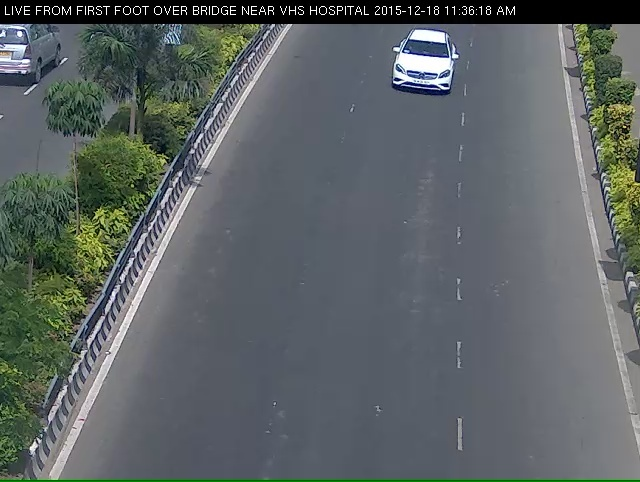Car: (380, 34, 470, 114)
